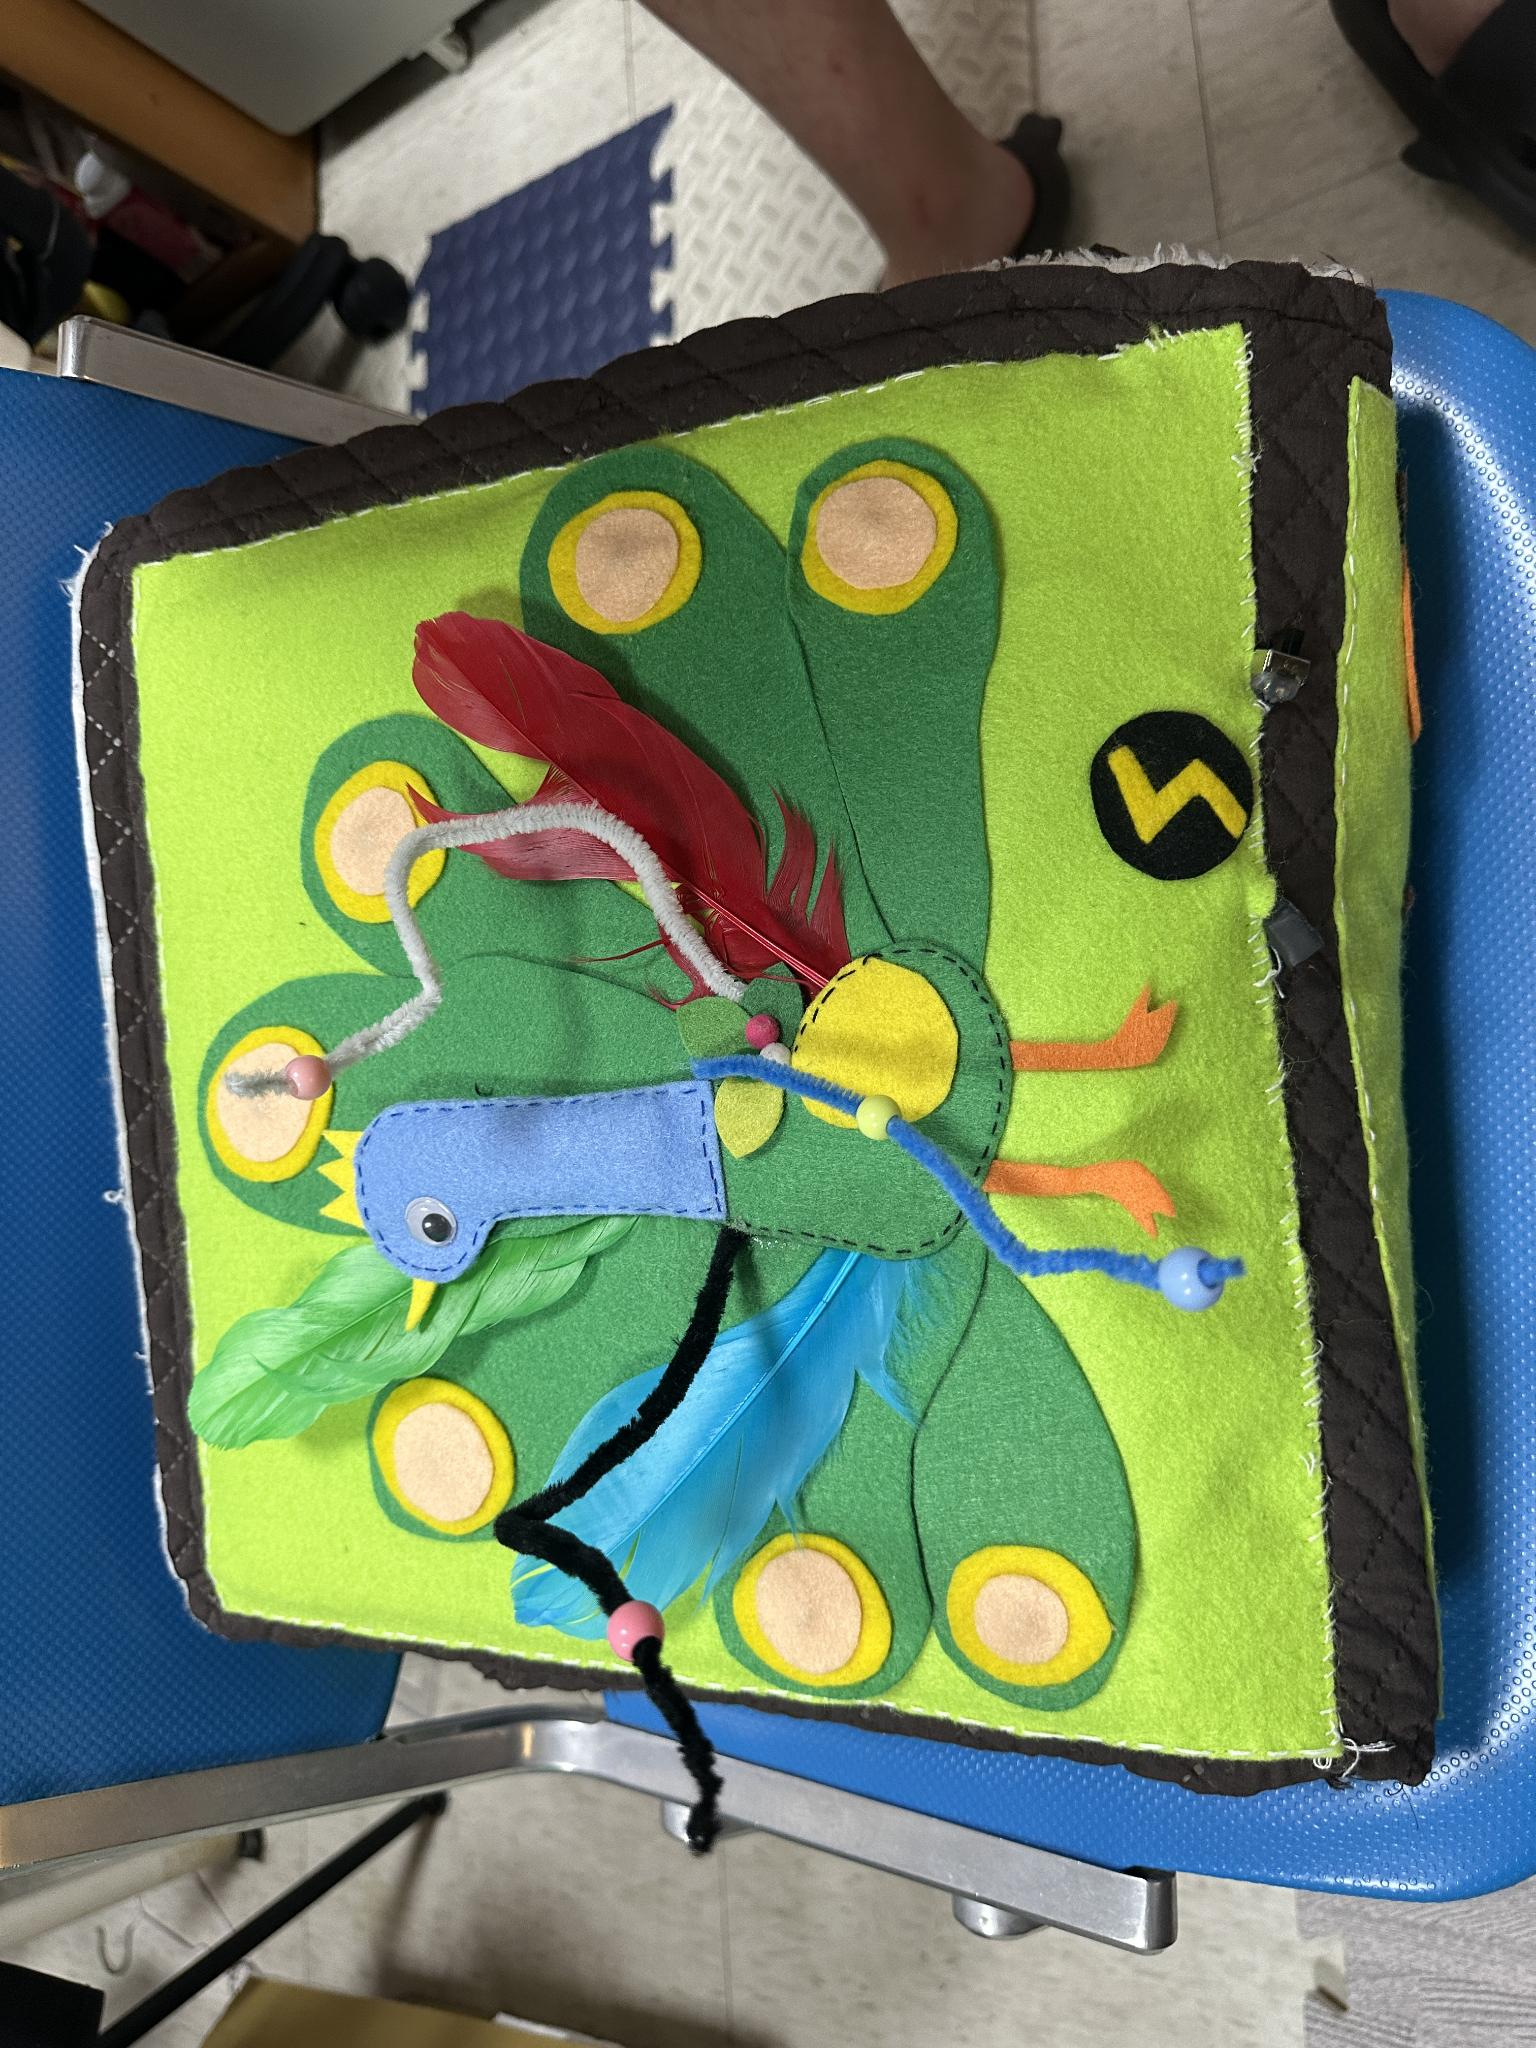bead: (586, 1582, 666, 1664), (1149, 1237, 1226, 1317), (269, 1043, 342, 1119), (837, 1074, 904, 1145)
